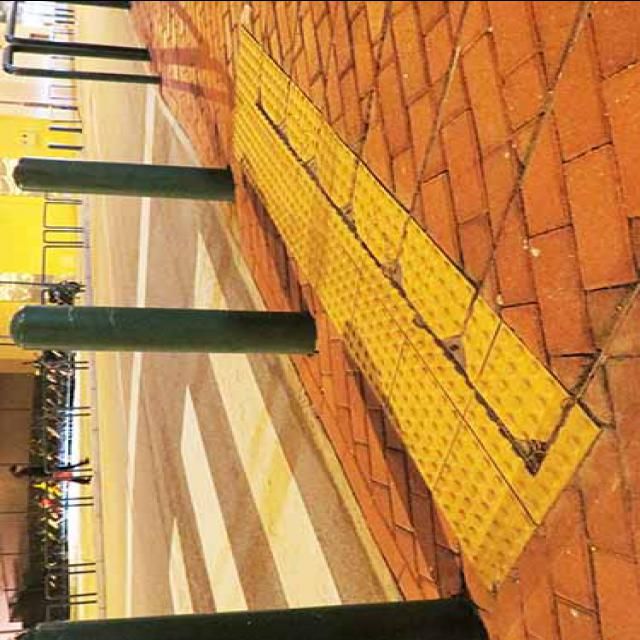tactile-guide-path: (232, 22, 602, 590)
